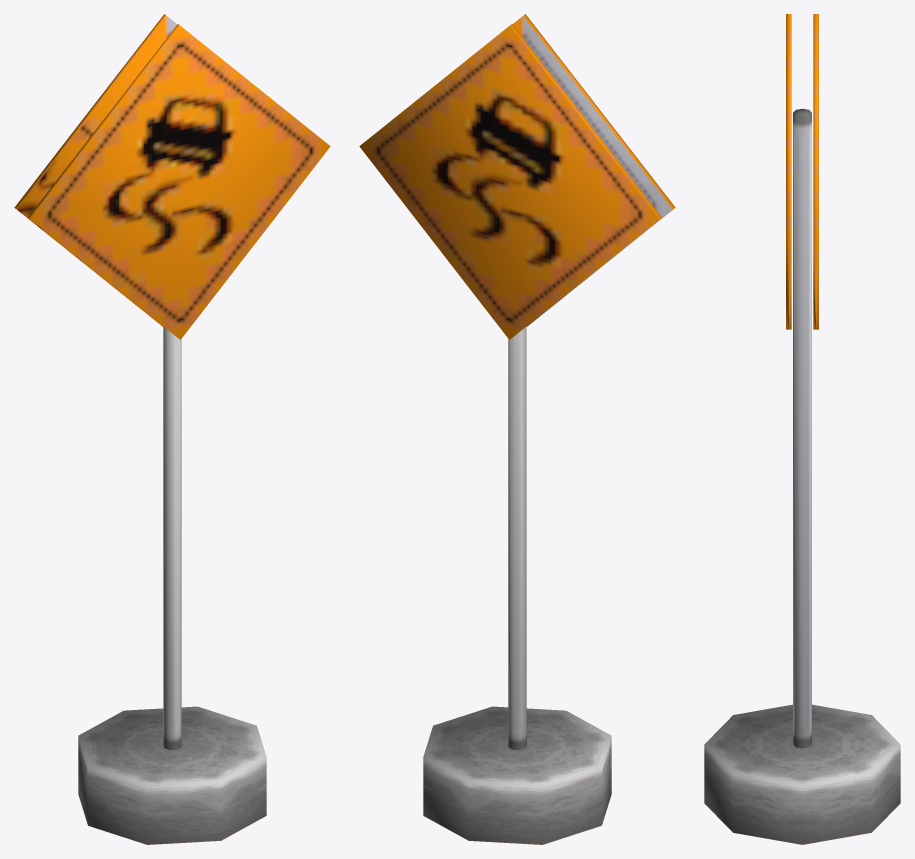
The model's file is rmk_csx_warning.dae.
3 renders of one model, left to right at view 1: azimuth 30°, elevation 25°; view 2: azimuth 150°, elevation 25°; view 3: azimuth 270°, elevation 25°, orthographic.
Visible parts, largest first — view 1: rmk_csx_warning; view 2: rmk_csx_warning; view 3: rmk_csx_warning.
Part boxes in pixels (x1=…): rmk_csx_warning: x1=14, y1=14, x2=330, y2=844; rmk_csx_warning: x1=359, y1=14, x2=675, y2=844; rmk_csx_warning: x1=704, y1=14, x2=900, y2=844.
Bounding box in the file's own units: 25.6 × 64 × 14.4.
1 material, 1 textured.
